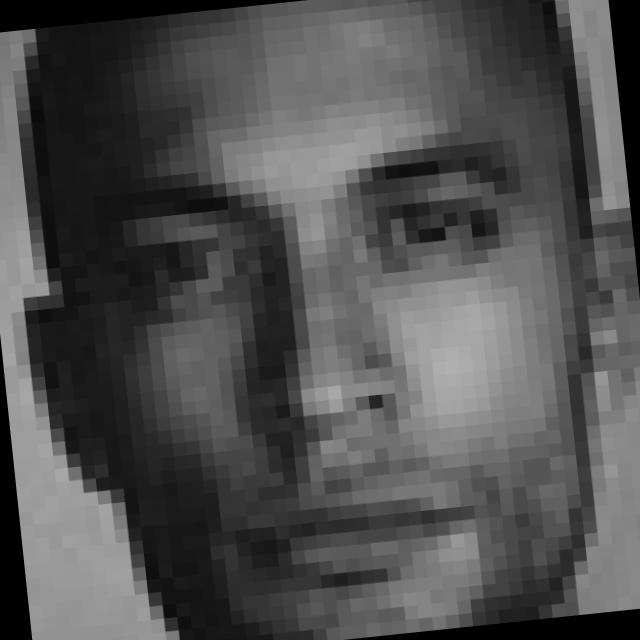neutral: (84, 127, 558, 620)
